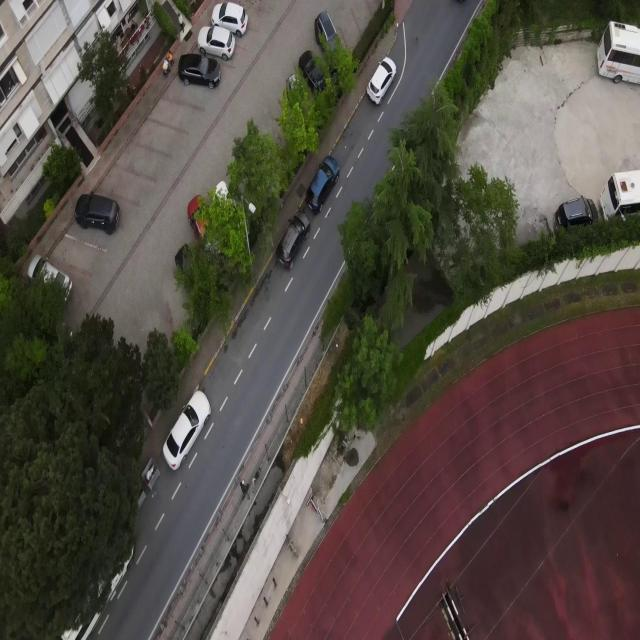p3rson: (166, 49, 175, 67), (178, 11, 185, 33), (240, 478, 249, 494)
